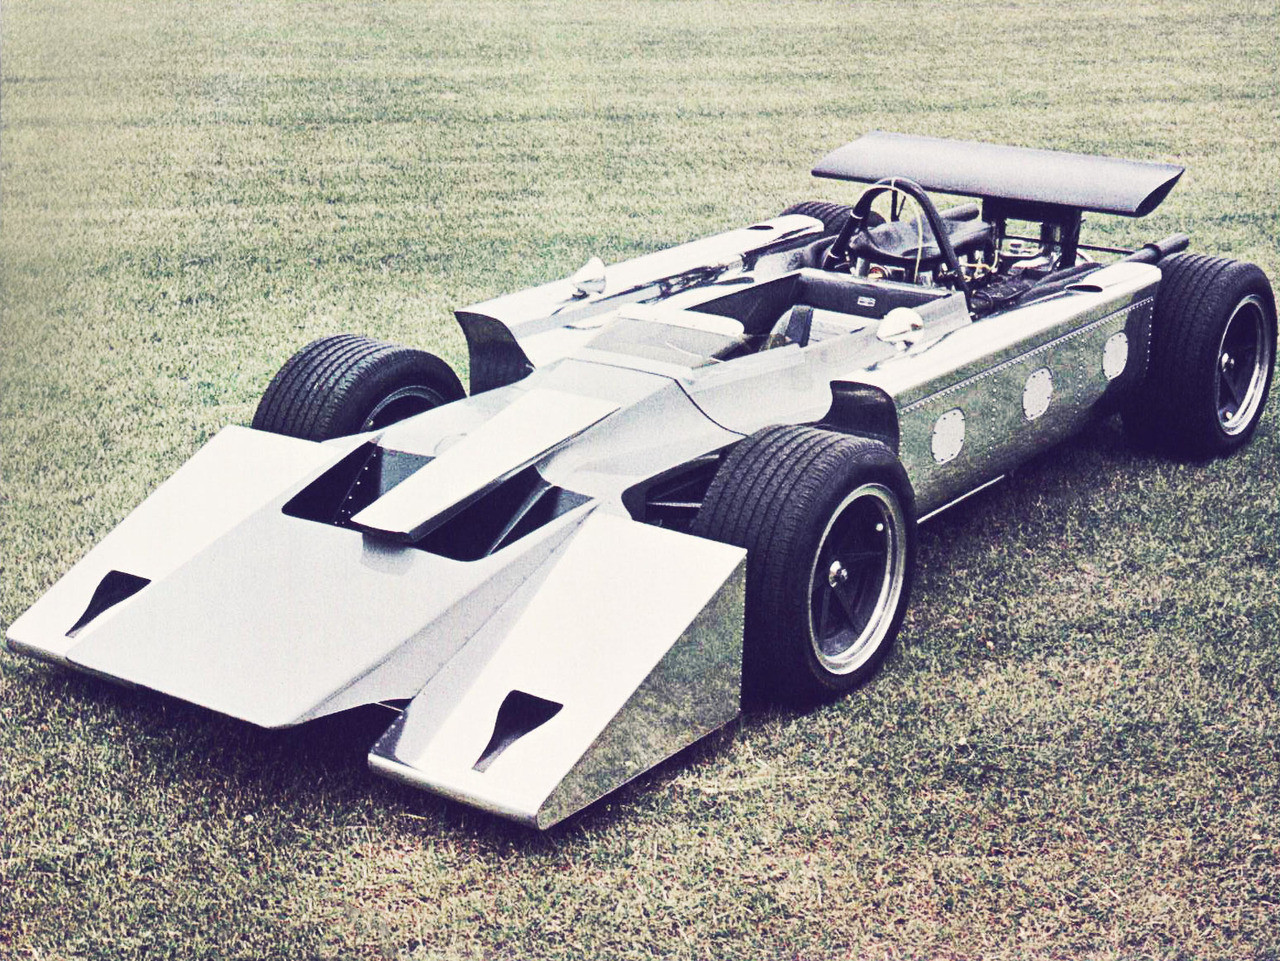f1_car: (6, 119, 1280, 845)
